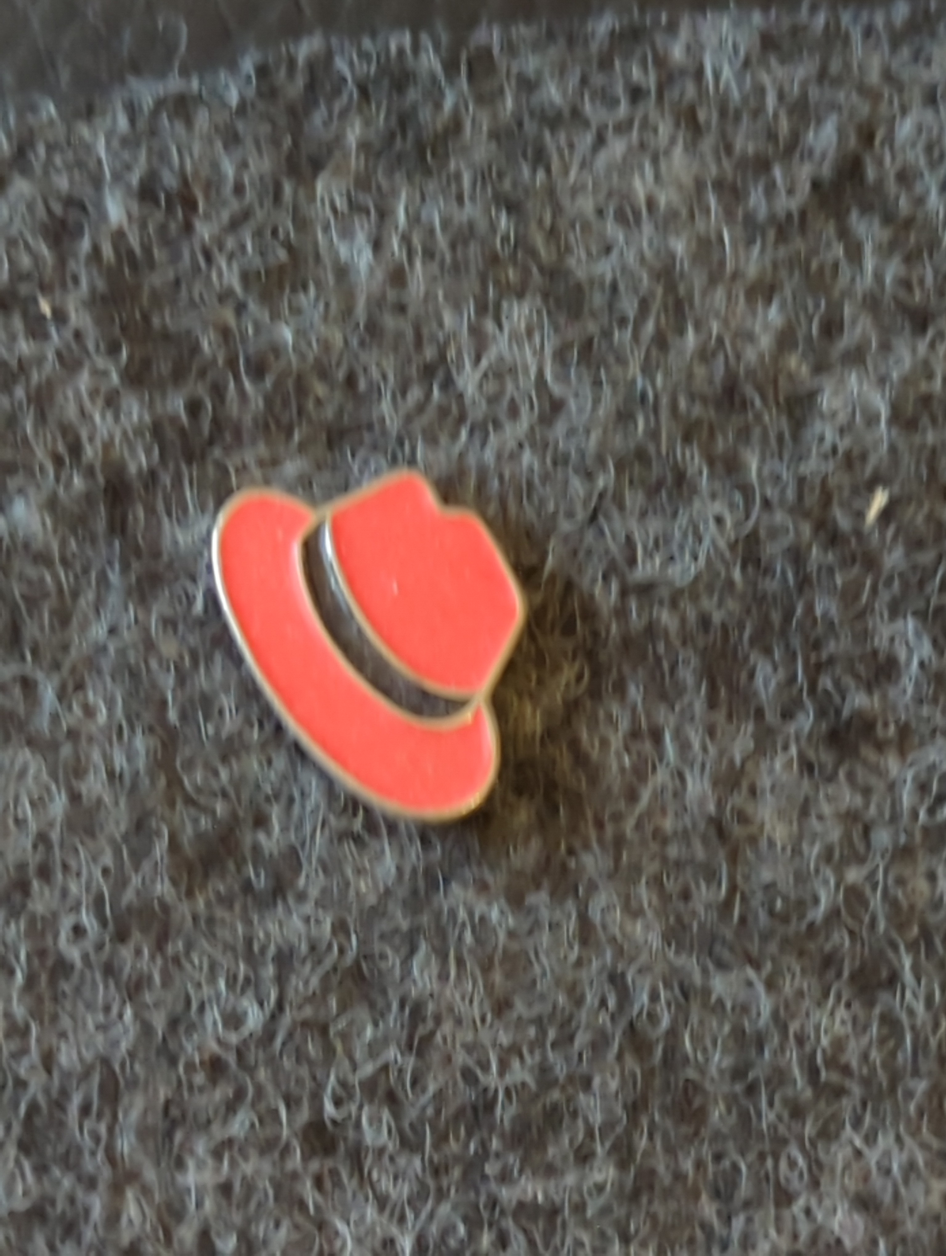Red-Hat: (103, 368, 662, 924)
